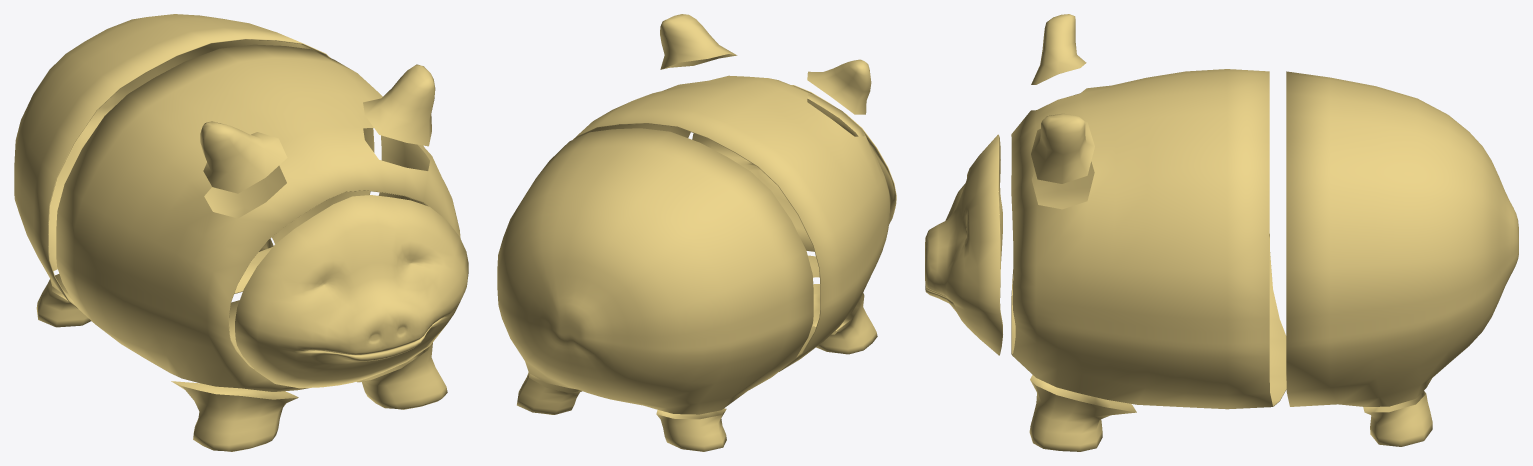
File: shatteredpig5.gltf
3 views of the same model, side by side, from view 1: azimuth 30°, elevation 25°; view 2: azimuth 150°, elevation 25°; view 3: azimuth 270°, elevation 25° (orthographic). The views are drawn at different scales.
Visible parts, largest first — view 1: pig.008, pig.001, pig.002, pig.006, pig.003, pig.004, pig.005, pig.007; view 2: pig.002, pig.008, pig.004, pig.001, pig.007, pig.003, pig.006, pig.009; view 3: pig.008, pig.002, pig.001, pig.005, pig.004, pig.009, pig.003.
Boxes of the visible parts, x1=… form: pig.008: x1=56, y1=44, x2=460, y2=391; pig.001: x1=235, y1=195, x2=468, y2=388; pig.002: x1=14, y1=14, x2=374, y2=308; pig.006: x1=171, y1=381, x2=298, y2=451; pig.003: x1=200, y1=121, x2=287, y2=193; pig.004: x1=363, y1=64, x2=435, y2=146; pig.005: x1=356, y1=342, x2=447, y2=409; pig.007: x1=36, y1=274, x2=91, y2=327; pig.002: x1=497, y1=128, x2=813, y2=414; pig.008: x1=573, y1=75, x2=890, y2=371; pig.004: x1=660, y1=14, x2=737, y2=69; pig.001: x1=692, y1=85, x2=896, y2=251; pig.007: x1=656, y1=408, x2=726, y2=451; pig.003: x1=807, y1=59, x2=871, y2=114; pig.006: x1=812, y1=284, x2=877, y2=354; pig.009: x1=517, y1=372, x2=582, y2=414; pig.008: x1=1011, y1=69, x2=1286, y2=409; pig.002: x1=1286, y1=71, x2=1518, y2=406; pig.001: x1=925, y1=134, x2=1002, y2=355; pig.005: x1=1029, y1=375, x2=1136, y2=451; pig.004: x1=1031, y1=113, x2=1094, y2=183; pig.009: x1=1363, y1=391, x2=1432, y2=446; pig.003: x1=1031, y1=14, x2=1086, y2=84.
Bounding box in the file's own units: 3.81 × 3.55 × 5.78.
